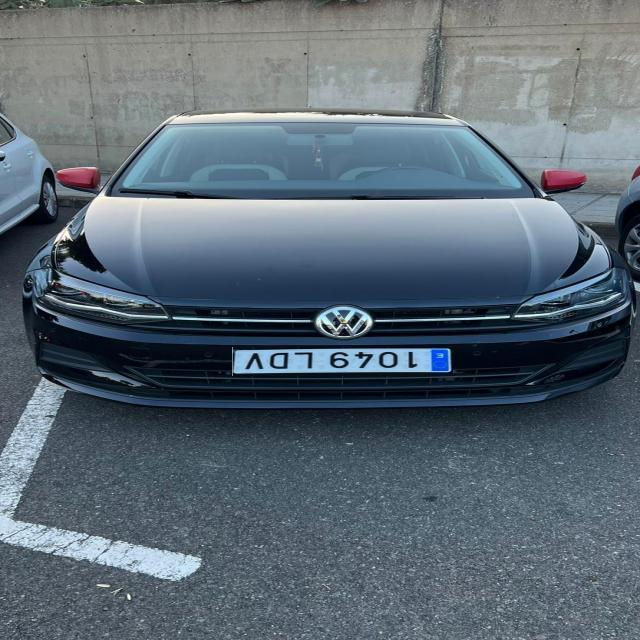License-Plate: (232, 346, 453, 376)
